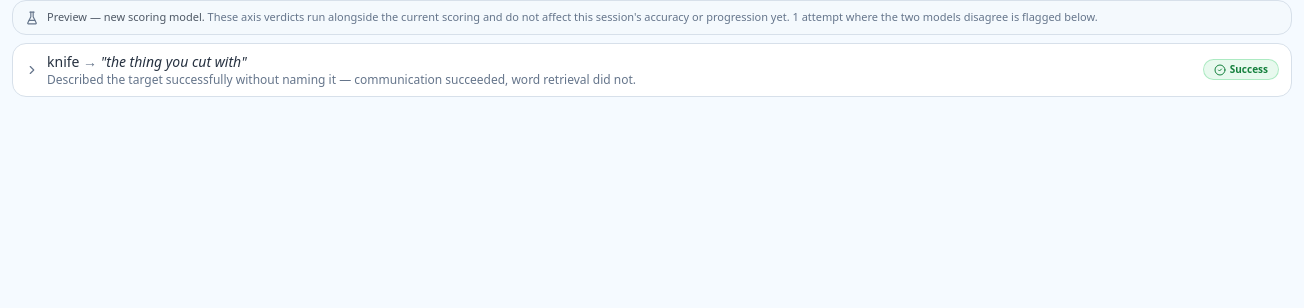
Test: AxisEvidencePanel › shows the NAMED Communication Success state (never the decimal) when expanded
# Expand the attempt row
Click the button: (63, 61) [13,44,1291,96]
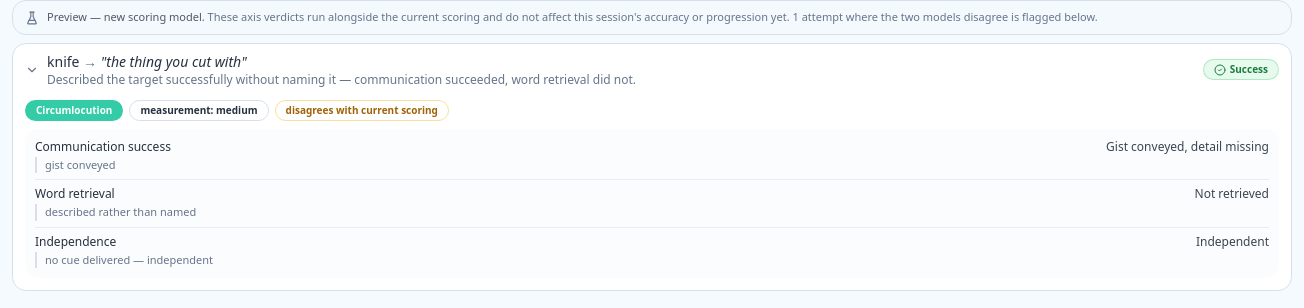
Expected: the text "Gist conveyed, detail missing" is shown, [1106,138,1269,154]
Expected: the text "Circumlocution" is shown, [25,100,123,120]
